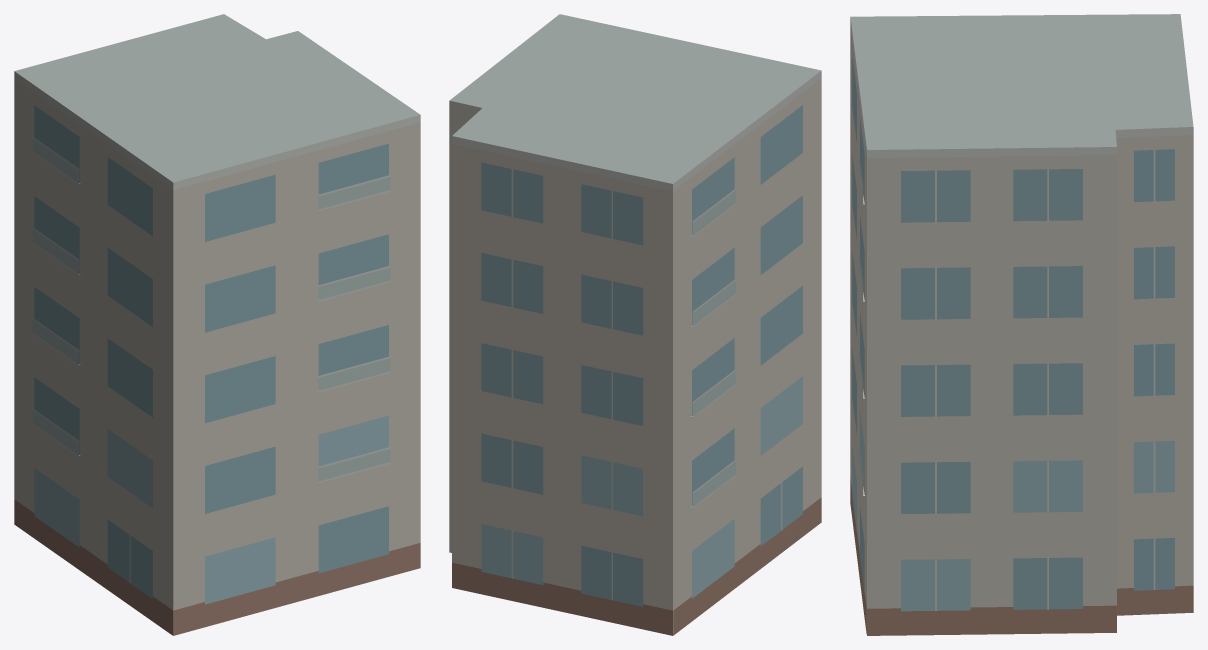
Rendered from survey-upis-32728303.glb.
The picture shows the model from 3 angles, left to right: view 1: azimuth 30°, elevation 25°; view 2: azimuth 150°, elevation 25°; view 3: azimuth 270°, elevation 25°; orthographic projection. The views are drawn at different scales.
Visible parts, largest first — view 1: survey-upis-32728303.tmp; view 2: survey-upis-32728303.tmp; view 3: survey-upis-32728303.tmp.
Part boxes in pixels (left/top/right/bottom): survey-upis-32728303.tmp: left=14, top=14, right=420, bottom=635; survey-upis-32728303.tmp: left=449, top=14, right=821, bottom=635; survey-upis-32728303.tmp: left=850, top=14, right=1193, bottom=635.
Bounding box in the file's own units: 8.79 × 14.6 × 9.36.
